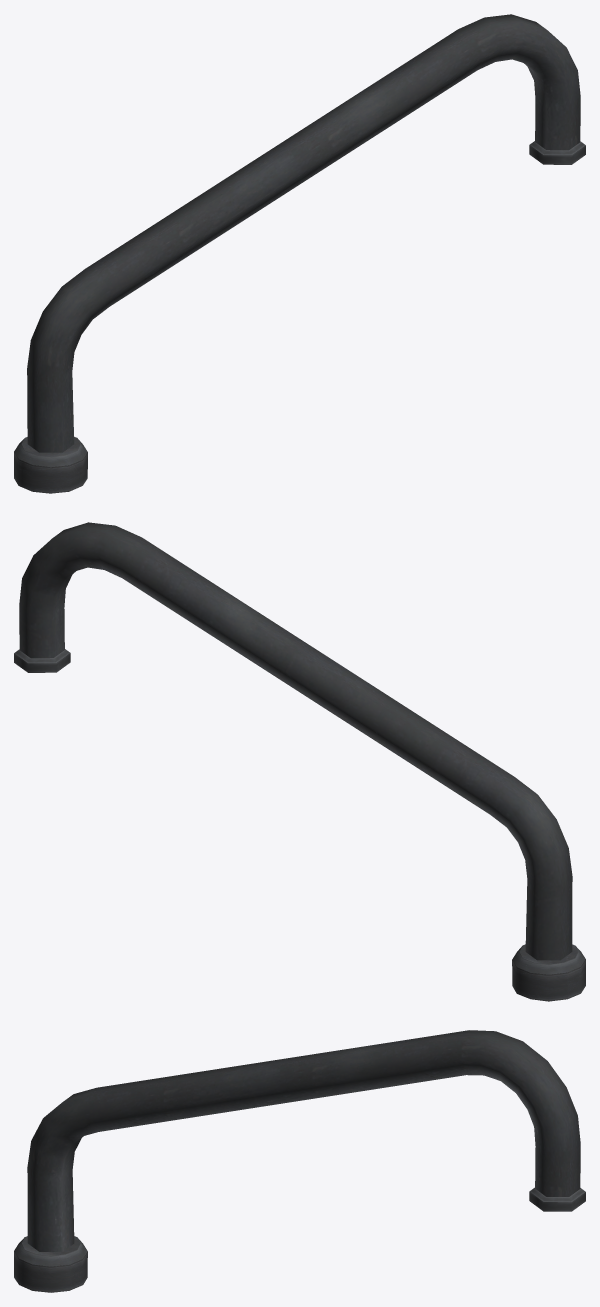
File: p6_kitchen_sink_faucet_nozzle_lod0.glb
3 views of the same model, one above another, from view 1: azimuth 30°, elevation 25°; view 2: azimuth 150°, elevation 25°; view 3: azimuth 330°, elevation 25° (orthographic).
Visible parts, largest first — view 1: surf0; view 2: surf0; view 3: surf0.
Boxes of the visible parts, <box> form: surf0: <box>14,14,585,493</box>; surf0: <box>14,522,585,1001</box>; surf0: <box>14,1030,585,1292</box>.
Size of the model in its own units: 8.4 by 5 by 0.9581.
